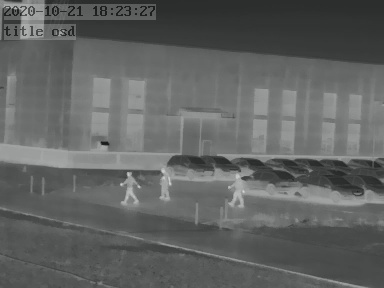person: (123, 171, 140, 204), (231, 173, 246, 209), (160, 168, 174, 200)
vehicle: (299, 171, 362, 200), (237, 168, 302, 193), (162, 152, 213, 180), (202, 152, 243, 178), (349, 174, 383, 202), (262, 155, 304, 172), (233, 154, 270, 171), (347, 156, 378, 170), (296, 156, 324, 169), (318, 157, 346, 169)
